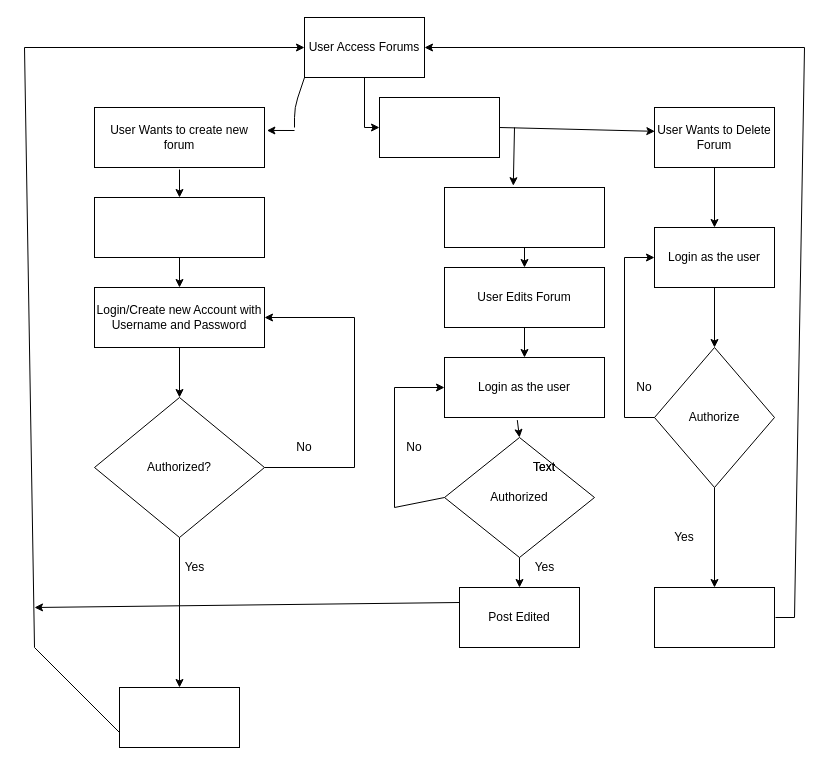
This 830x765 diagram has some shape labels left out. Each missing label, with the box of its shape:
Creates title and content of post: (94, 196, 264, 258)
Post Created: (118, 686, 240, 748)
Post Deleted: (654, 586, 774, 648)
User Accesses Post: (378, 96, 500, 158)
User Wants to Edit Forum: (444, 186, 604, 248)
